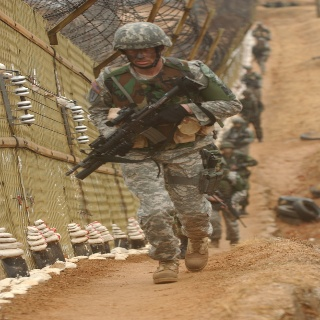rifle: (65, 85, 189, 180)
